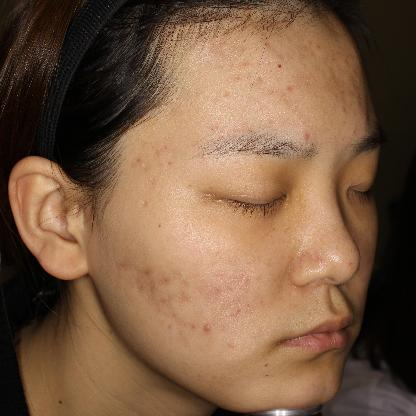Blackheads: (270, 55, 288, 74)
Papules: (199, 319, 220, 337), (301, 128, 315, 144)
